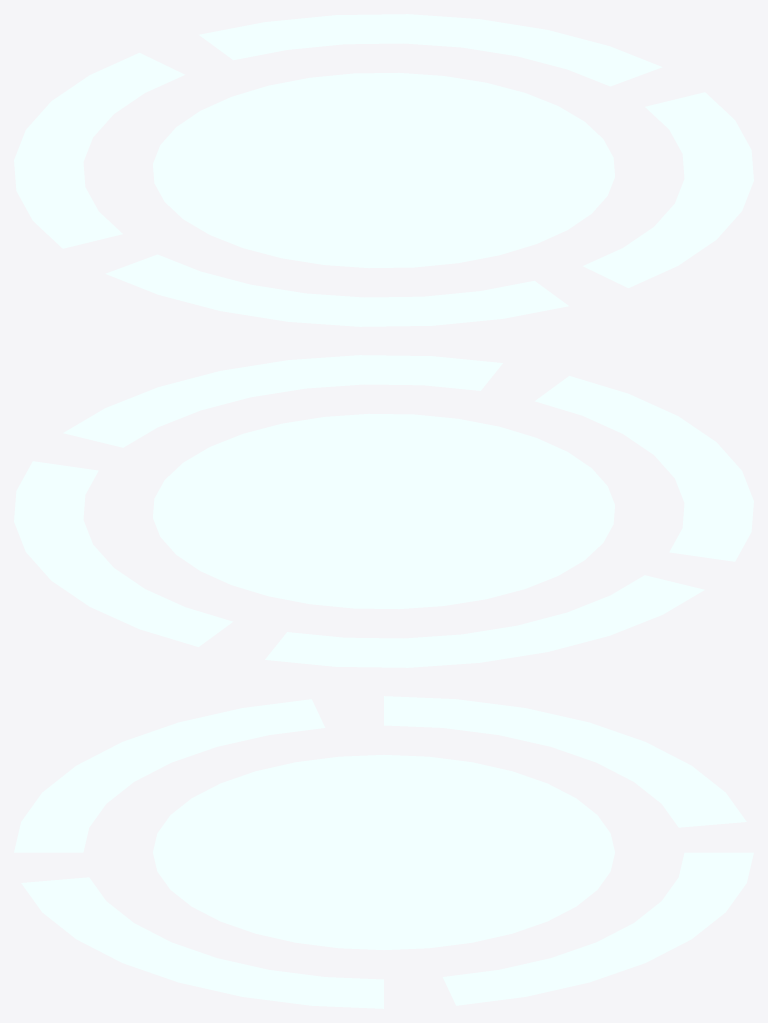
File: battle_ring.fbx
3 views of the same model, one above another, from view 1: azimuth 30°, elevation 25°; view 2: azimuth 150°, elevation 25°; view 3: azimuth 270°, elevation 25° (orthographic).
Parts seen in each view (by area): view 1: Circle; view 2: Circle; view 3: Circle.
Boxes of the visible parts, x1,y1,x2,y2 form: Circle: (14, 14, 753, 326); Circle: (14, 355, 753, 667); Circle: (14, 696, 753, 1008).
Size of the model in its own units: 10.7 by 1.74e-06 by 10.7.
